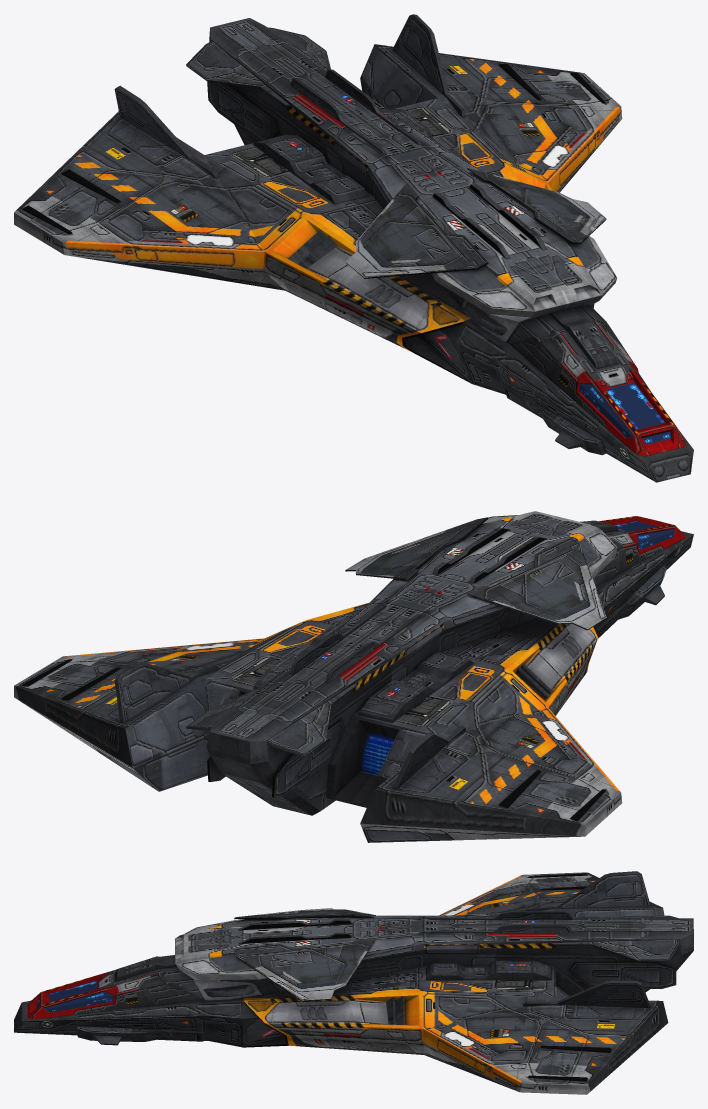
The model's file is SciFi_Scout-Spaceship.FBX.
3 views of the same model, one above another, from view 1: azimuth 30°, elevation 25°; view 2: azimuth 150°, elevation 25°; view 3: azimuth 270°, elevation 25° (orthographic). The views are drawn at different scales.
Parts seen in each view (by area): view 1: SciFi_Scout-Spaceship; view 2: SciFi_Scout-Spaceship; view 3: SciFi_Scout-Spaceship.
Boxes of the visible parts, x1,y1,x2,y2 form: SciFi_Scout-Spaceship: [14, 14, 693, 482]; SciFi_Scout-Spaceship: [14, 511, 693, 842]; SciFi_Scout-Spaceship: [14, 871, 693, 1094].
Bounding box in the file's own units: 2018 × 496 × 2716.
